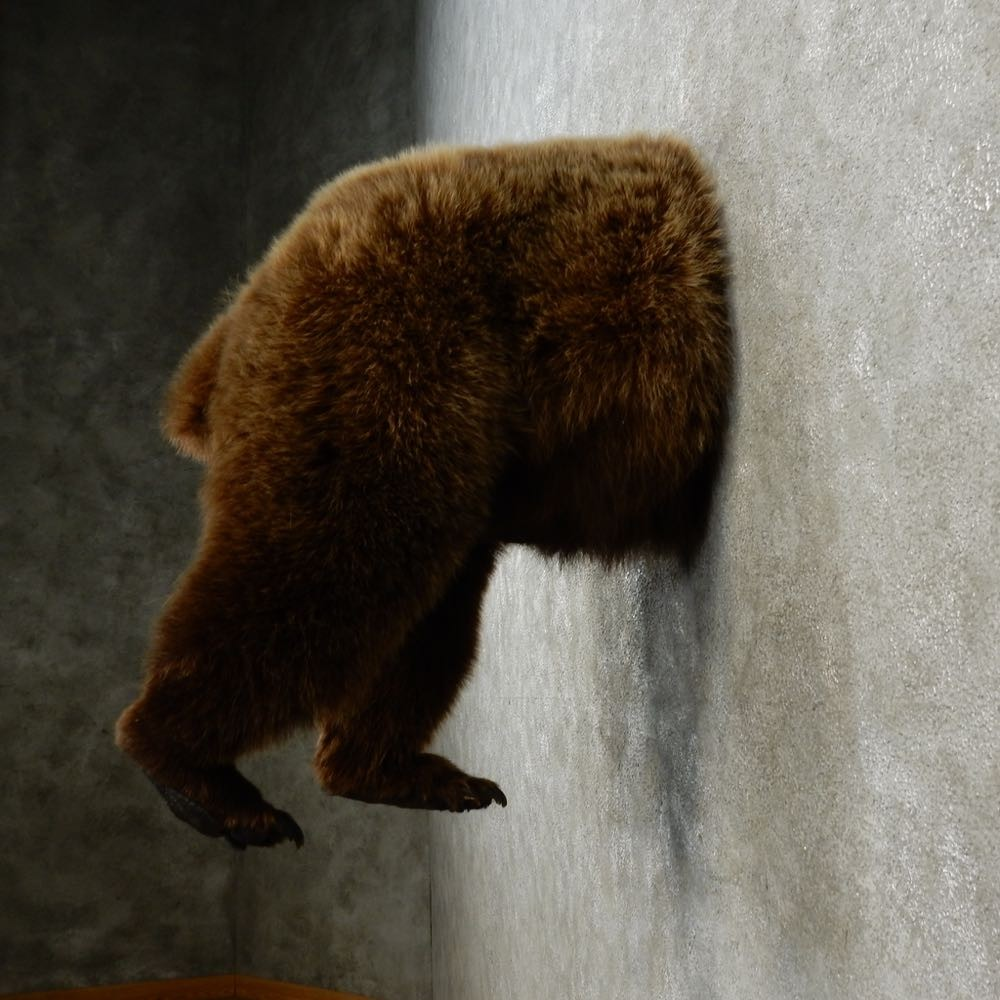bear: (114, 131, 730, 856)
